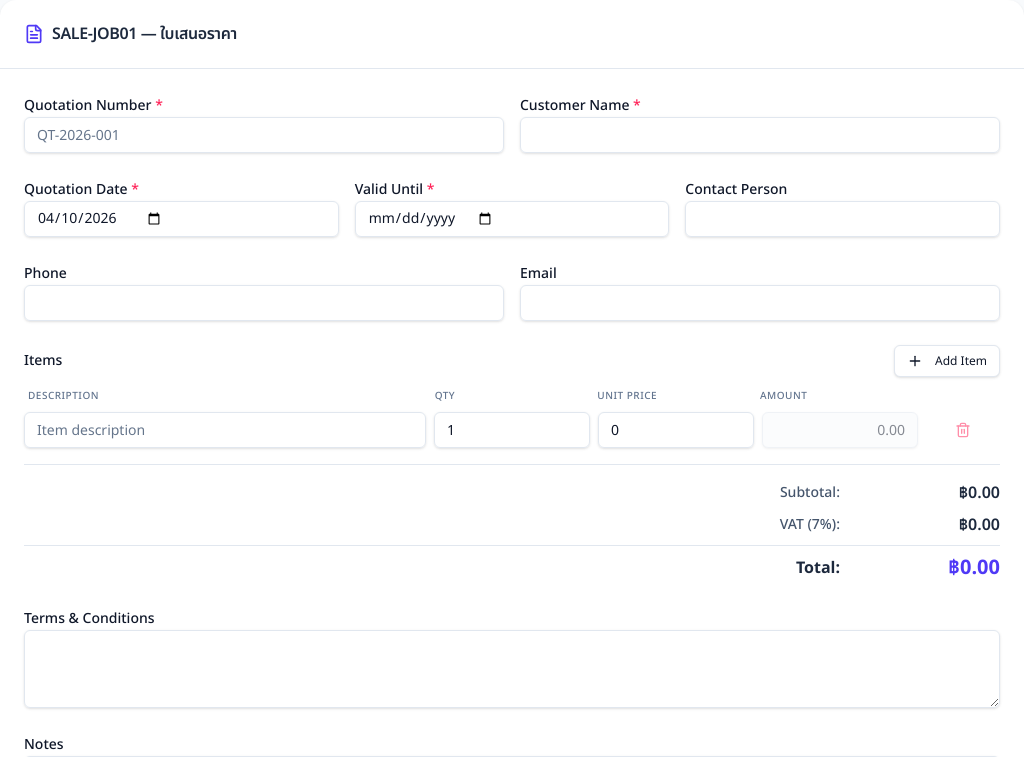
Test: FormSaleQuotationPage › adds a new item row when Add Item button clicked
Click the button "Add Item" at (947, 361), box [894, 345, 1000, 377]
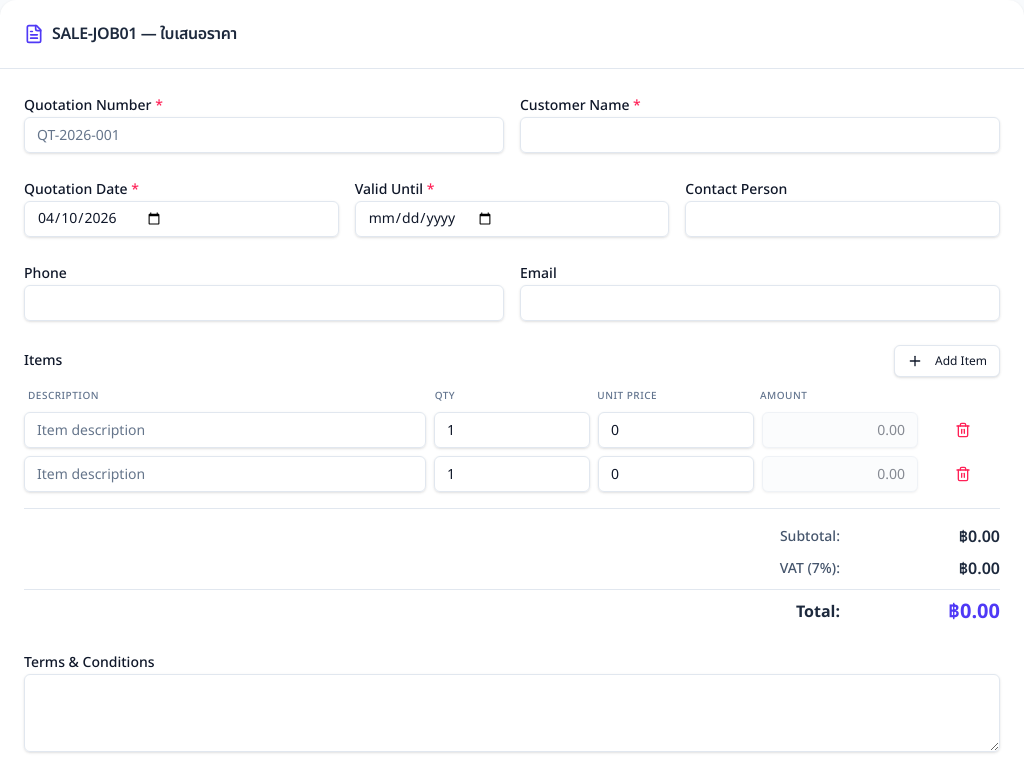
Result: the number of fields with placeholder "Item description" is 2 at [24, 412, 426, 448]; [24, 456, 426, 492]
